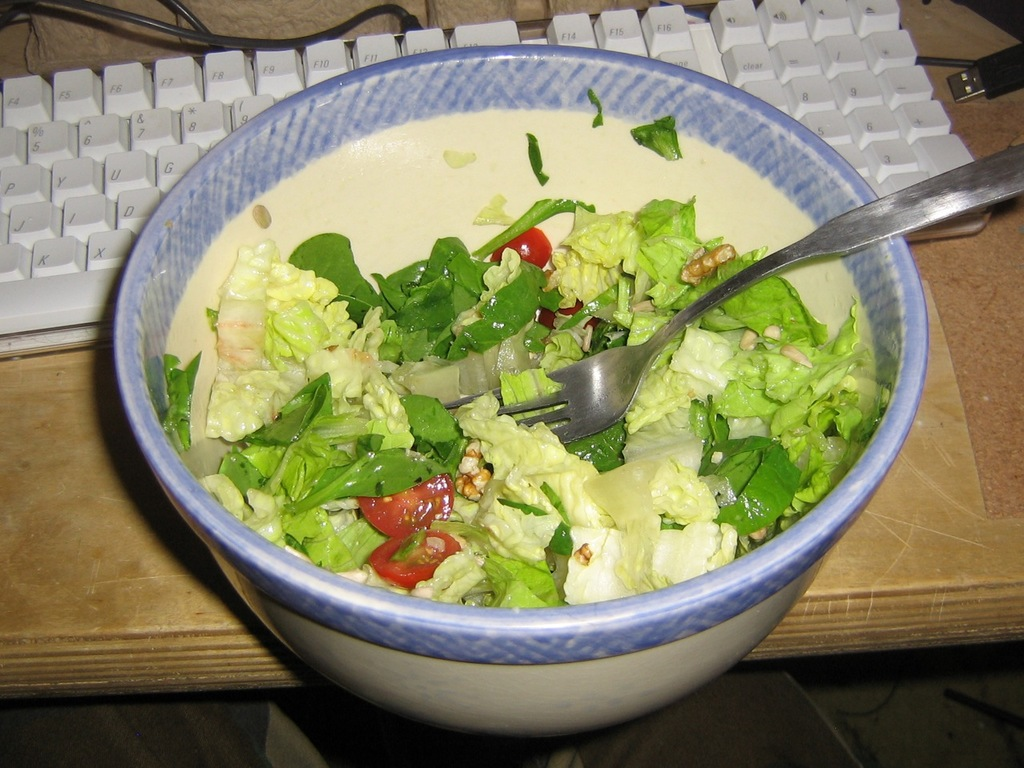salad: (154, 74, 897, 662)
